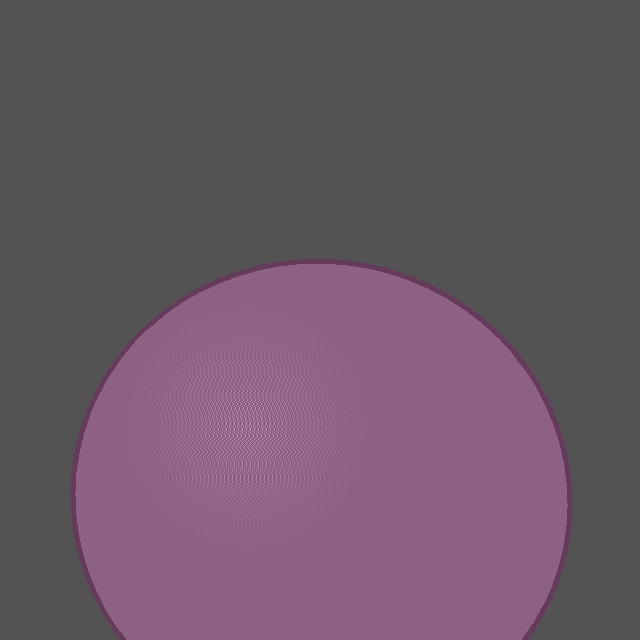lens: (73, 261, 569, 640)
